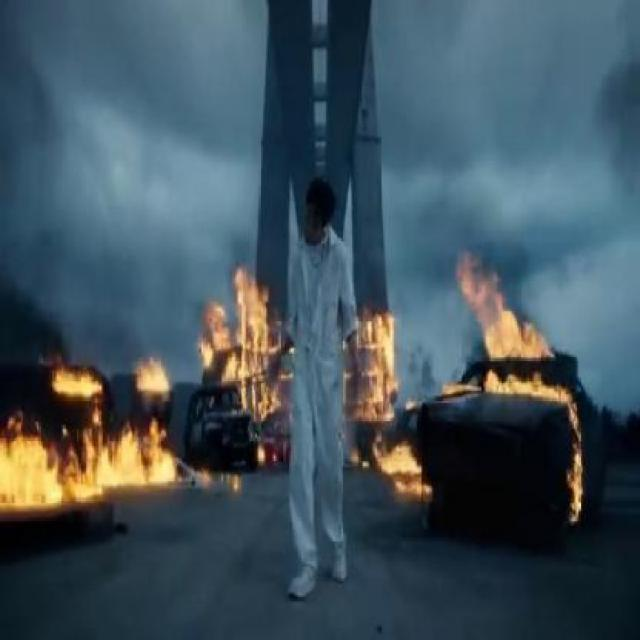fire: (3, 403, 175, 500), (230, 280, 273, 418), (357, 304, 394, 418), (484, 308, 550, 367)
smoke: (486, 194, 566, 300), (397, 172, 463, 298), (88, 254, 156, 360), (1, 246, 70, 346), (162, 238, 204, 348), (214, 194, 274, 268), (354, 229, 398, 300), (406, 326, 440, 400), (453, 308, 482, 361)
